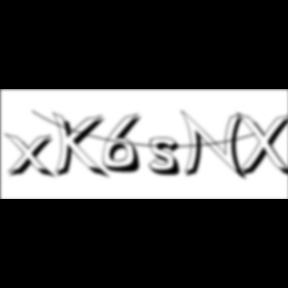6: (102, 112, 148, 176)
K: (53, 110, 112, 182)
N: (180, 109, 250, 183)
s: (148, 137, 188, 179)
x: (4, 132, 60, 181)
